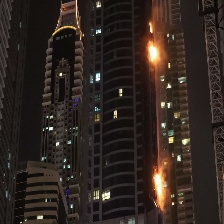fire: (152, 167, 166, 211), (145, 38, 157, 65)
